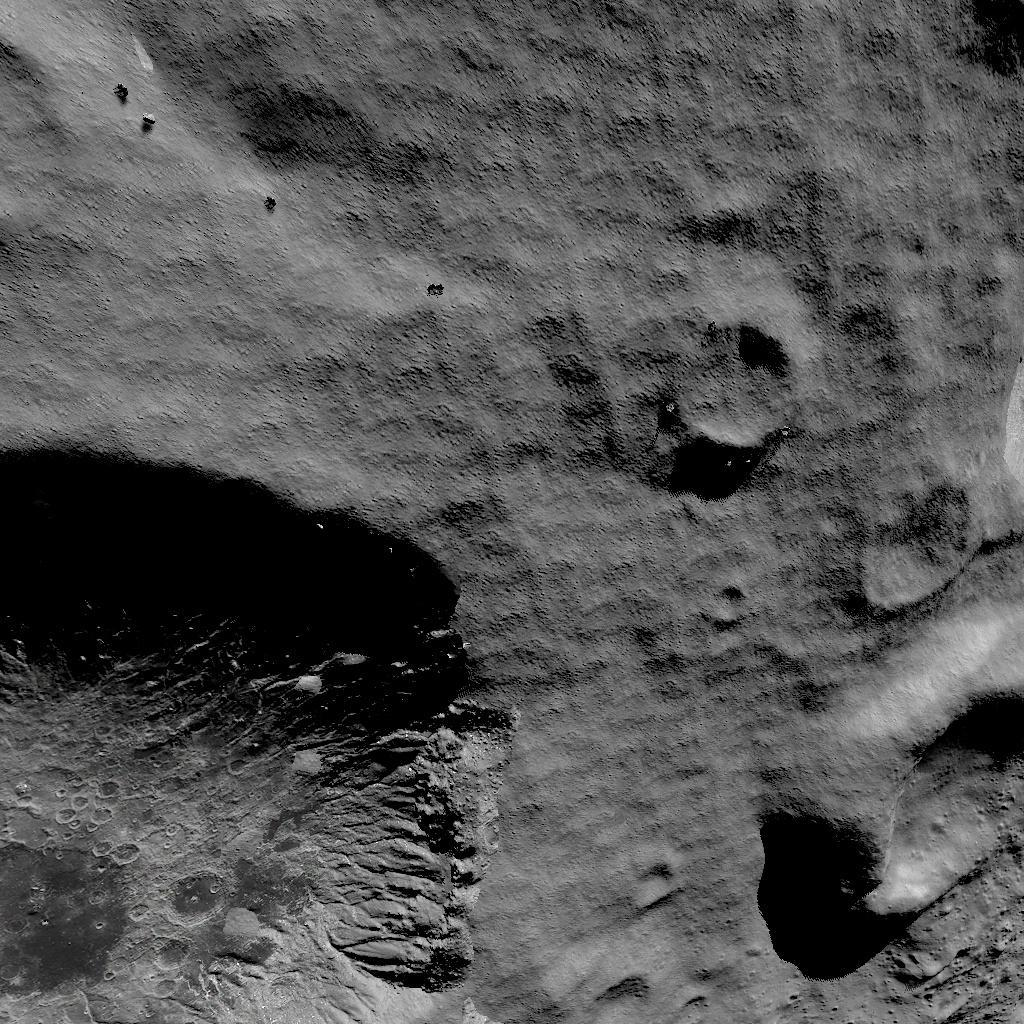Crater: (0, 428, 500, 1024), (751, 640, 1024, 980), (655, 316, 812, 464), (843, 468, 983, 622)
Plan surface: (317, 0, 916, 219), (3, 236, 399, 416)
